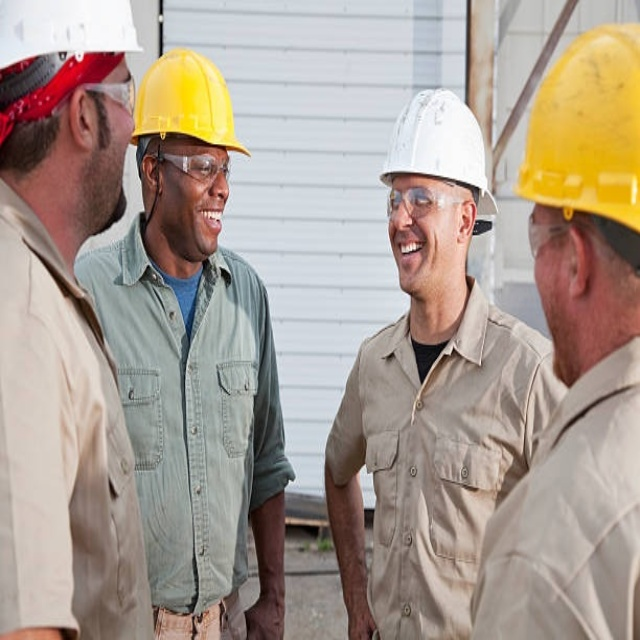Gafas: (59, 71, 137, 116), (155, 144, 230, 185), (526, 205, 572, 262), (383, 187, 467, 215)
Sin_mascara: (93, 127, 136, 216), (189, 205, 227, 249), (391, 238, 428, 282)
